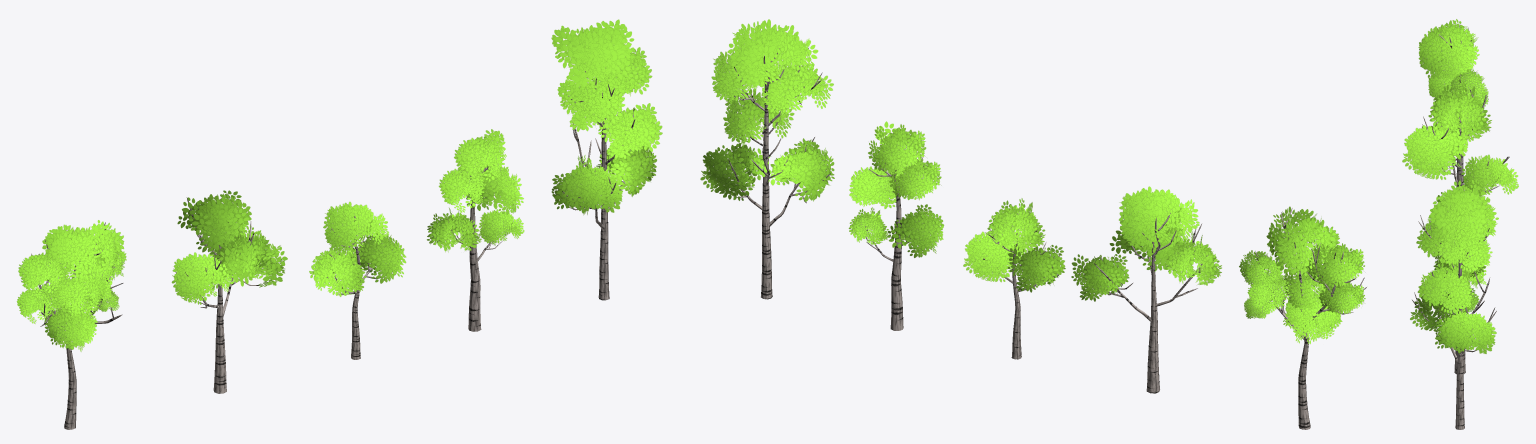
File: birch.glb
3 renders of one model, left to right at view 1: azimuth 30°, elevation 25°; view 2: azimuth 150°, elevation 25°; view 3: azimuth 270°, elevation 25°, orthographic. The views are drawn at different scales.
Visible parts, largest first — view 1: BirchTree_2, BirchTree_3, BirchTree_5, BirchTree_1, BirchTree_4; view 2: BirchTree_2, BirchTree_3, BirchTree_5, BirchTree_1, BirchTree_4; view 3: BirchTree_2, BirchTree_5, BirchTree_3, BirchTree_1.
Boxes of the visible parts, x1=… form: BirchTree_2: x1=551, y1=19, x2=662, y2=300; BirchTree_3: x1=17, y1=220, x2=126, y2=429; BirchTree_5: x1=171, y1=190, x2=287, y2=393; BirchTree_1: x1=427, y1=129, x2=524, y2=331; BirchTree_4: x1=309, y1=201, x2=406, y2=359; BirchTree_2: x1=700, y1=19, x2=834, y2=299; BirchTree_3: x1=1239, y1=206, x2=1366, y2=429; BirchTree_5: x1=1071, y1=186, x2=1221, y2=393; BirchTree_1: x1=848, y1=121, x2=943, y2=330; BirchTree_4: x1=963, y1=198, x2=1065, y2=359; BirchTree_2: x1=1410, y1=178, x2=1498, y2=429; BirchTree_5: x1=1402, y1=81, x2=1518, y2=196; BirchTree_3: x1=1418, y1=19, x2=1488, y2=190; BirchTree_1: x1=1425, y1=201, x2=1486, y2=374.
Bounding box in the file's own units: 18.56 × 7.57 × 3.51.
2 materials, 2 textured.
